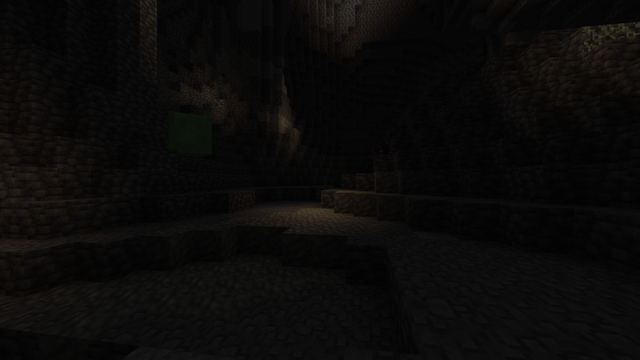slimes: (173, 110, 215, 156)
